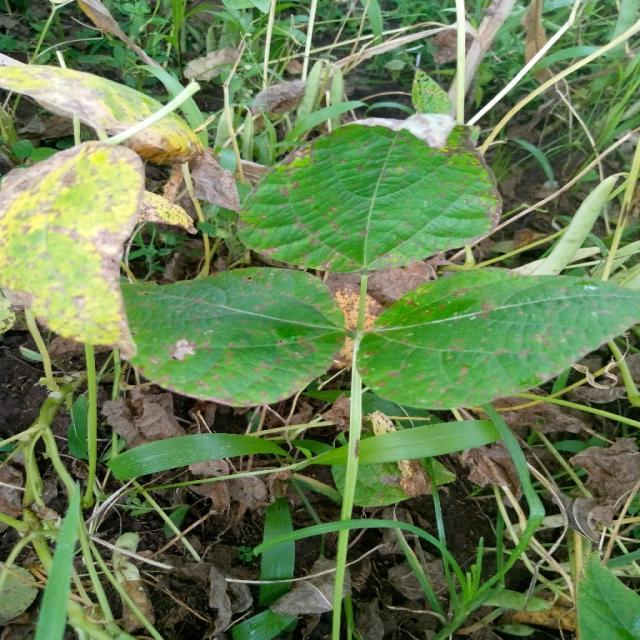hawar: (0, 118, 230, 383)
